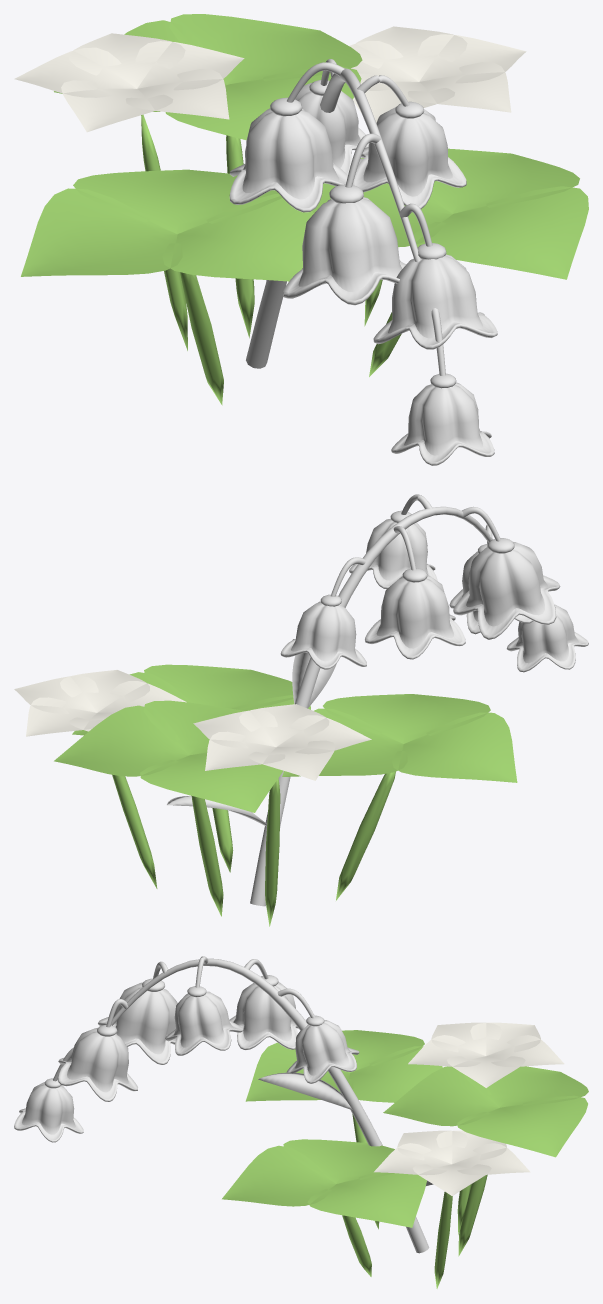
The model's file is SM_Valley_MixedBellflowerCluster.fbx.
3 renders of one model, top to bottom at view 1: azimuth 30°, elevation 25°; view 2: azimuth 150°, elevation 25°; view 3: azimuth 270°, elevation 25°, orthographic. The views are drawn at different scales.
Visible parts, largest first — view 1: SM_Valley_MixedBellflowerCluster; view 2: SM_Valley_MixedBellflowerCluster; view 3: SM_Valley_MixedBellflowerCluster.
Part boxes in pixels (left/top/right/bottom): SM_Valley_MixedBellflowerCluster: left=14, top=14, right=588, bottom=465; SM_Valley_MixedBellflowerCluster: left=14, top=494, right=588, bottom=926; SM_Valley_MixedBellflowerCluster: left=14, top=956, right=588, bottom=1288.
Bounding box in the file's own units: 131 × 91.54 × 169.
